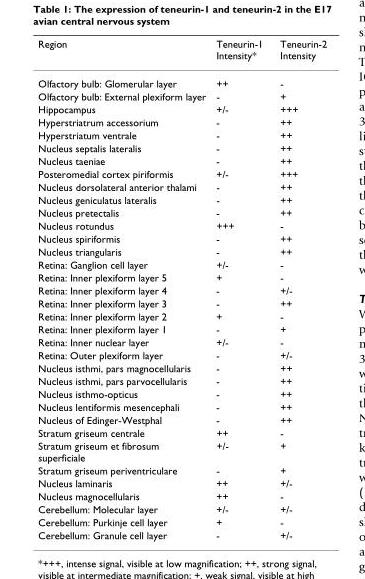table: (37, 37, 326, 540)
table column: (37, 37, 210, 540), (210, 37, 270, 540), (270, 37, 326, 540)
table column header: (37, 37, 326, 68)
table row: (37, 37, 326, 68), (37, 438, 326, 463), (37, 68, 326, 89), (37, 89, 326, 102), (37, 102, 326, 115), (37, 115, 326, 128), (37, 128, 326, 141), (37, 141, 326, 154), (37, 154, 326, 167), (37, 179, 326, 192), (37, 192, 326, 205), (37, 205, 326, 218), (37, 218, 326, 231), (37, 231, 326, 244), (37, 244, 326, 257), (37, 257, 326, 270), (37, 270, 326, 283), (37, 283, 326, 296), (37, 296, 326, 309), (37, 309, 326, 322), (37, 322, 326, 335), (37, 335, 326, 348), (37, 348, 326, 361), (37, 361, 326, 374), (37, 374, 326, 387), (37, 399, 326, 412), (37, 412, 326, 425), (37, 425, 326, 438), (37, 463, 326, 476), (37, 476, 326, 489), (37, 489, 326, 502), (37, 502, 326, 515), (37, 515, 326, 528), (37, 167, 326, 179), (37, 387, 326, 399), (37, 528, 326, 540)
